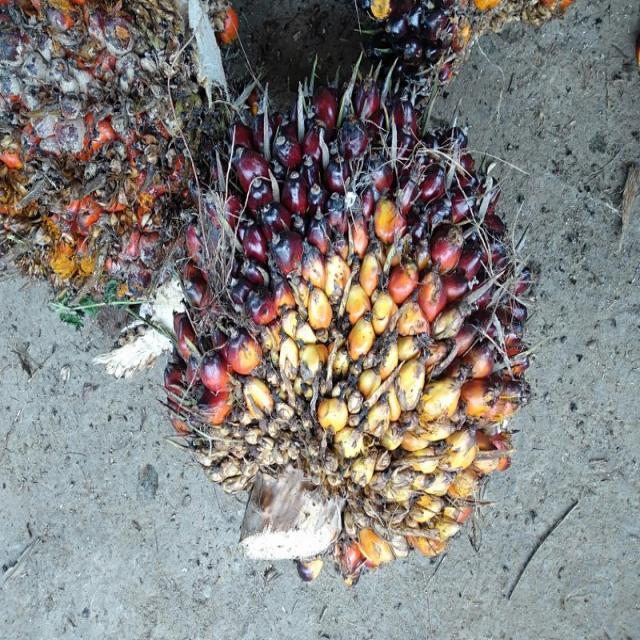fraksi 1: (159, 56, 533, 569)
